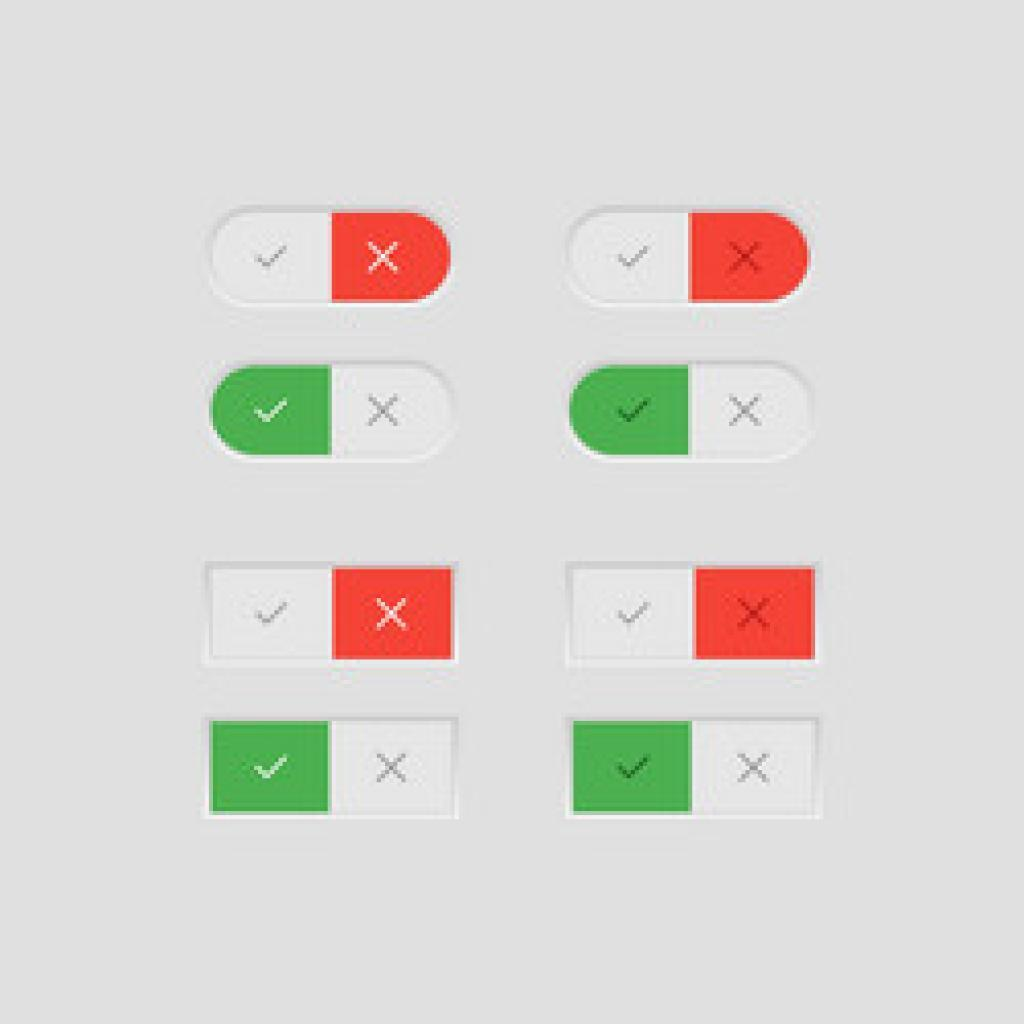switch: (565, 714, 825, 824), (209, 715, 461, 823), (565, 562, 822, 667), (208, 562, 458, 664), (570, 363, 821, 462), (568, 209, 813, 308), (211, 364, 456, 461), (211, 213, 452, 306)
